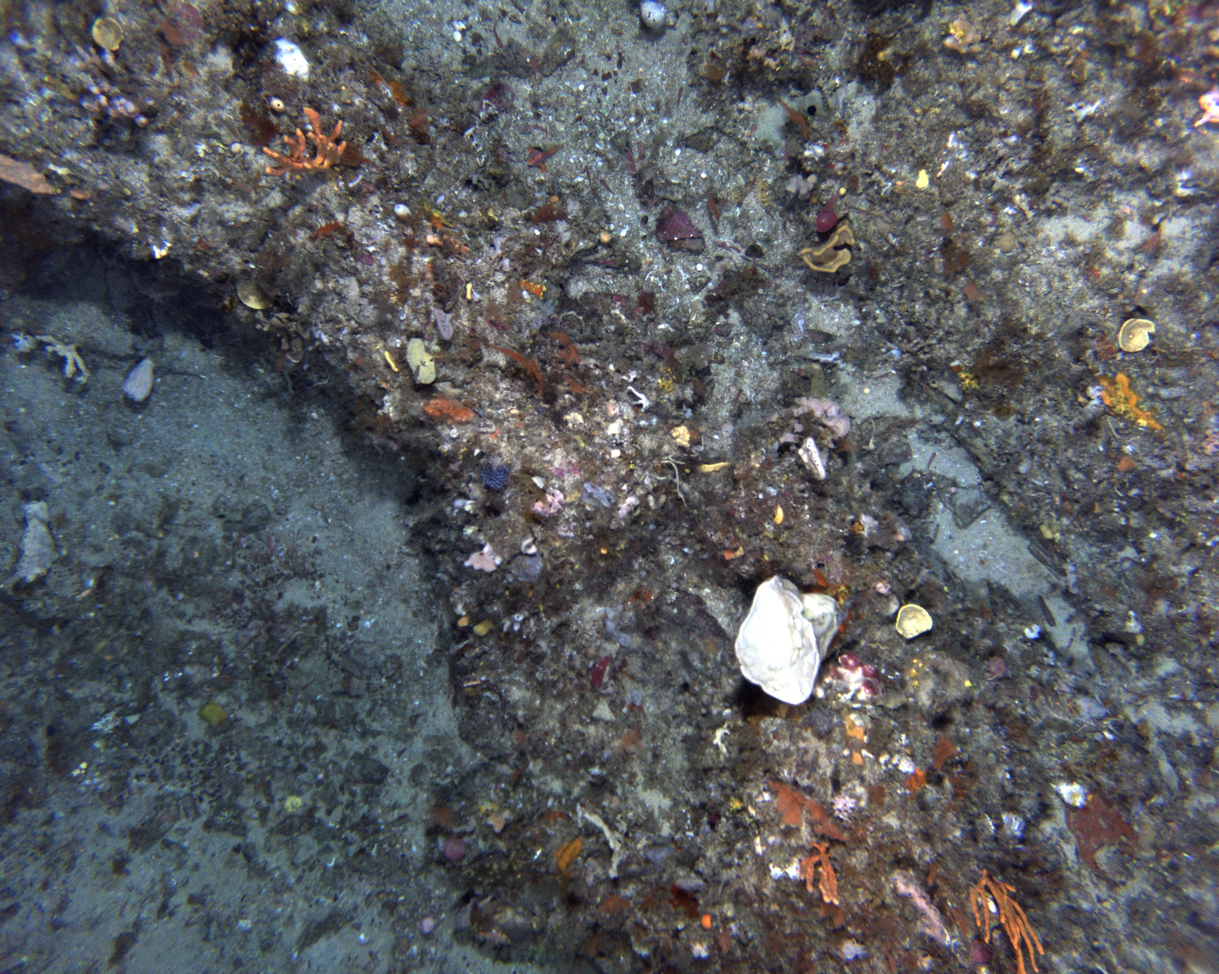Brachionichthyidae: (524, 143, 566, 174)
